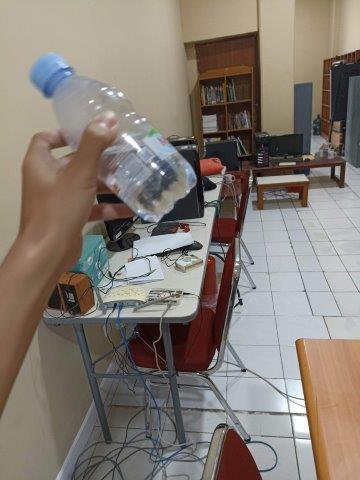botolplastik: (30, 51, 197, 222)
